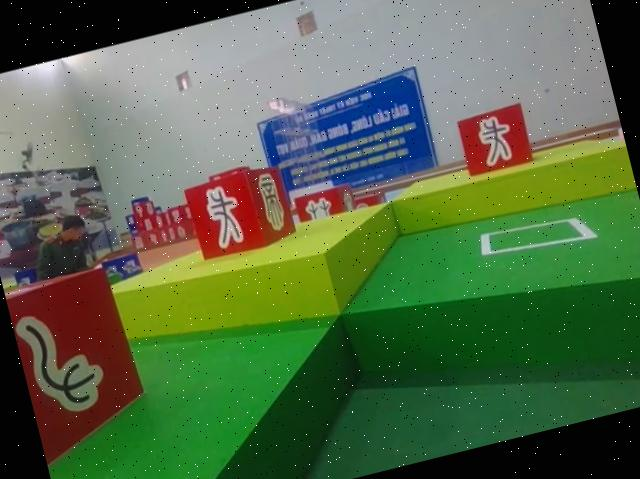R2 Fake: (180, 160, 296, 265), (452, 99, 538, 179)
R2 Real: (0, 251, 160, 479)
